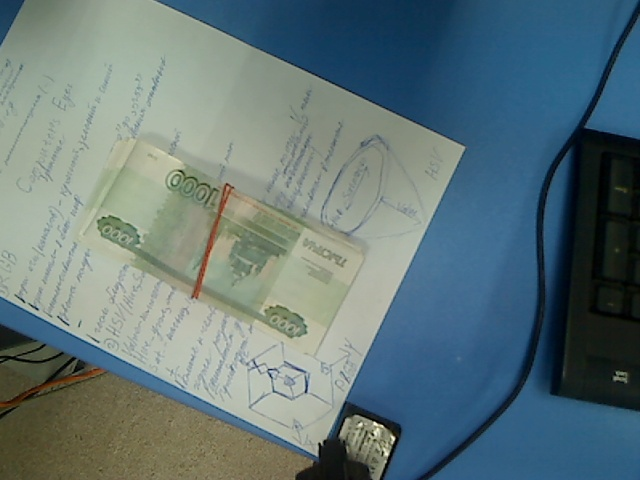banknotes: (71, 136, 368, 358)
